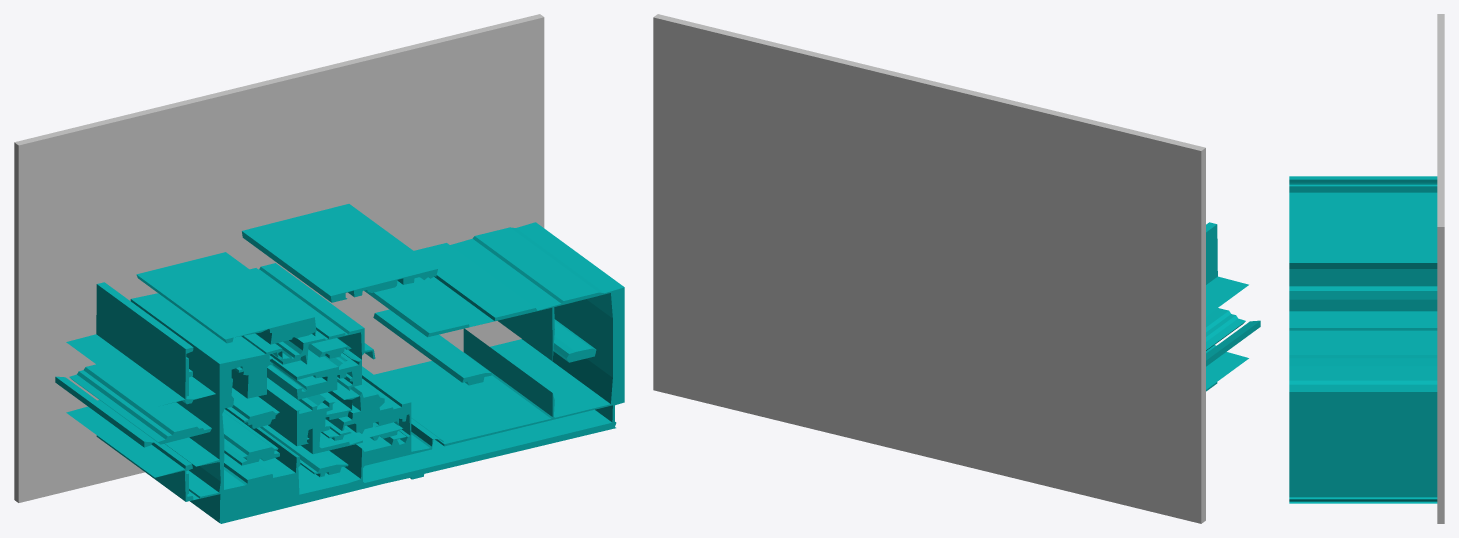
The picture shows the model from 3 angles, left to right: view 1: azimuth 30°, elevation 25°; view 2: azimuth 150°, elevation 25°; view 3: azimuth 270°, elevation 25°; orthographic projection. The views are drawn at different scales.
Visible parts, largest first — view 1: world; view 2: world; view 3: world.
Part boxes in pixels (x1,y1,x2,y2): world: [14, 14, 624, 523]; world: [653, 14, 1260, 523]; world: [1289, 14, 1444, 523].
Bounding box in the file's own units: 10.23 × 6.65 × 3.15.
